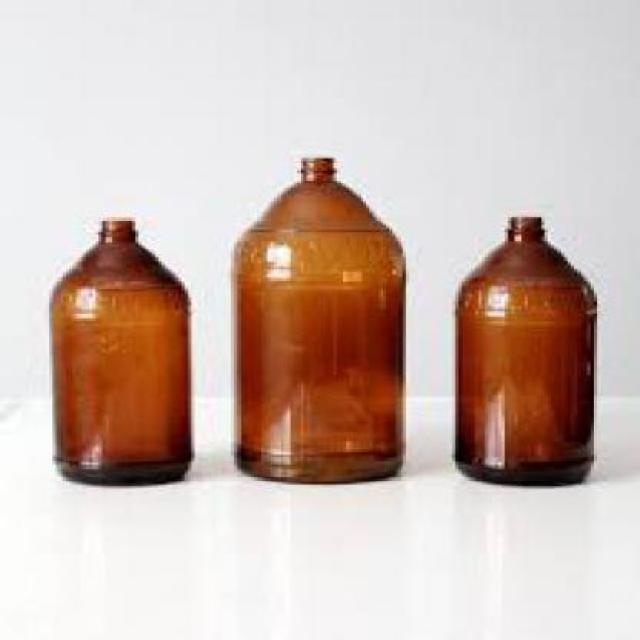GLASS: (231, 156, 400, 479), (46, 217, 191, 485), (452, 216, 591, 484)
